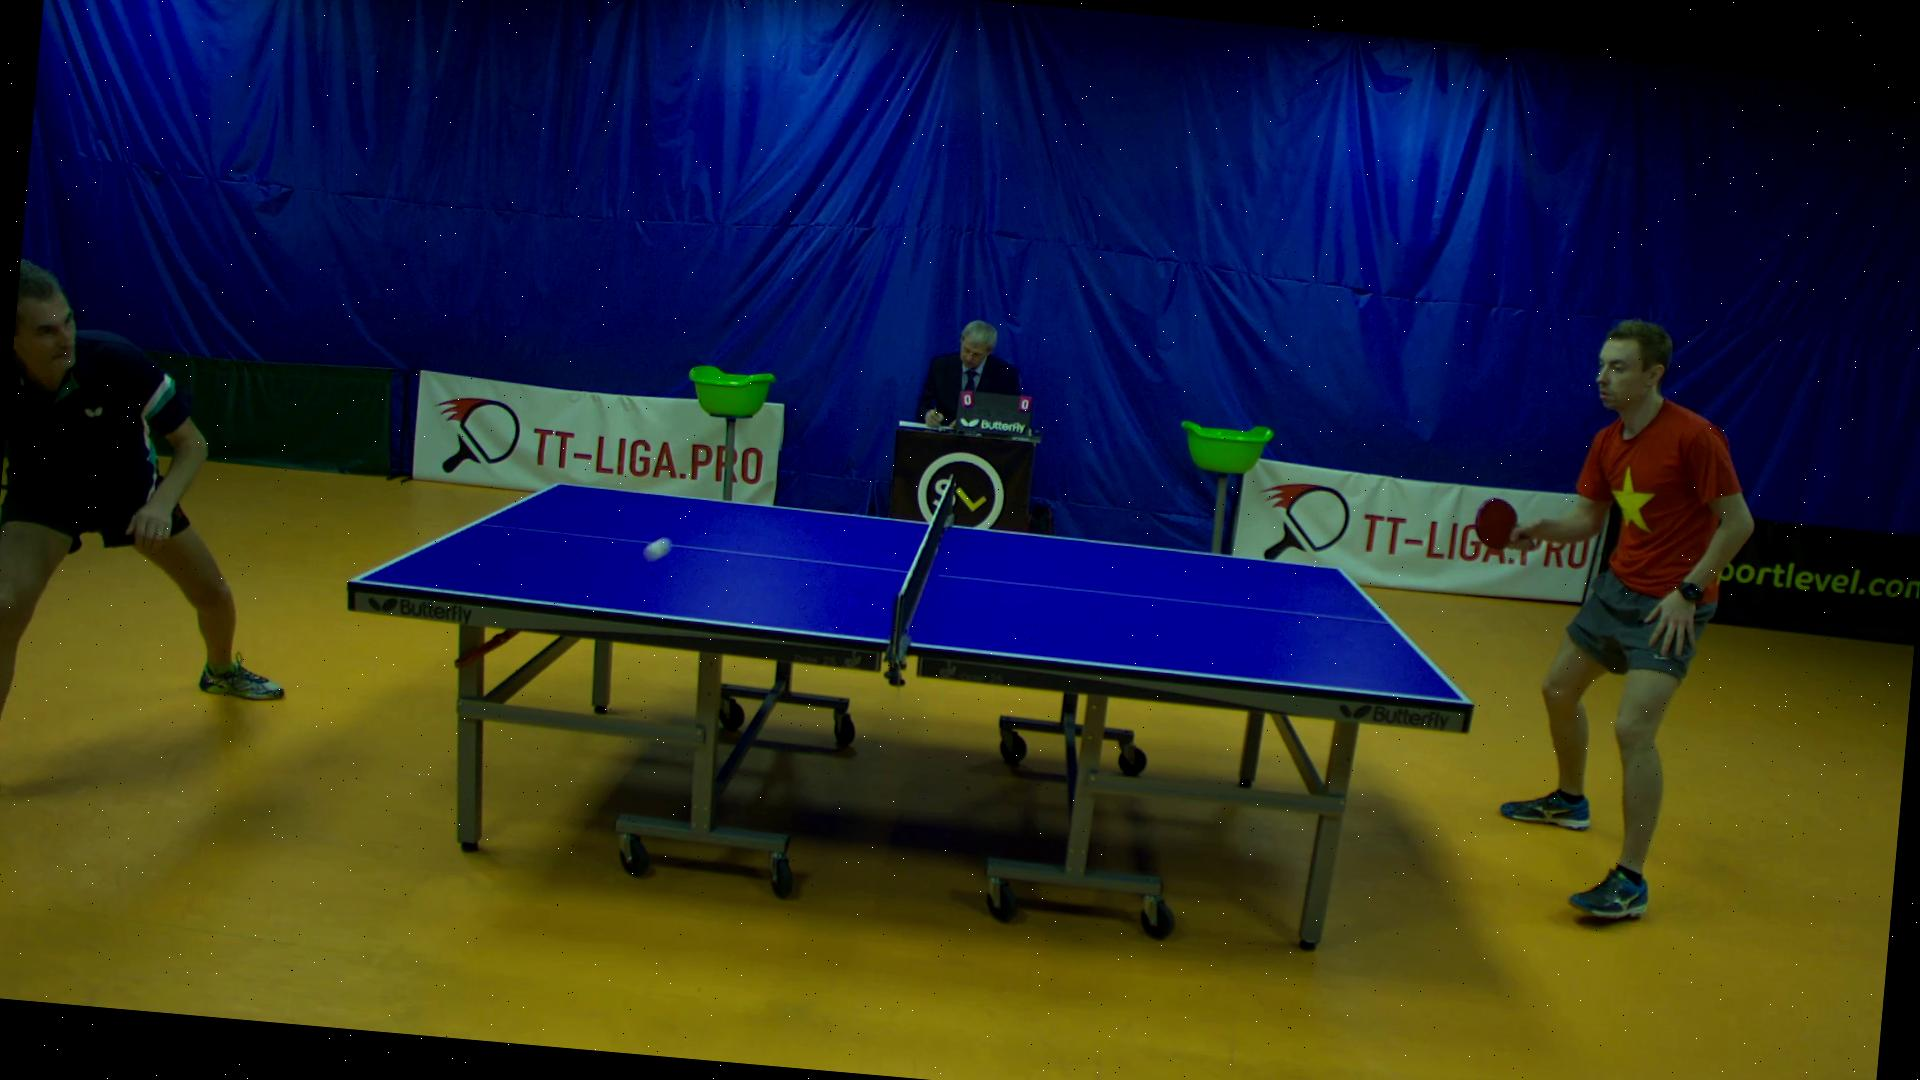ball: (637, 527, 674, 567)
